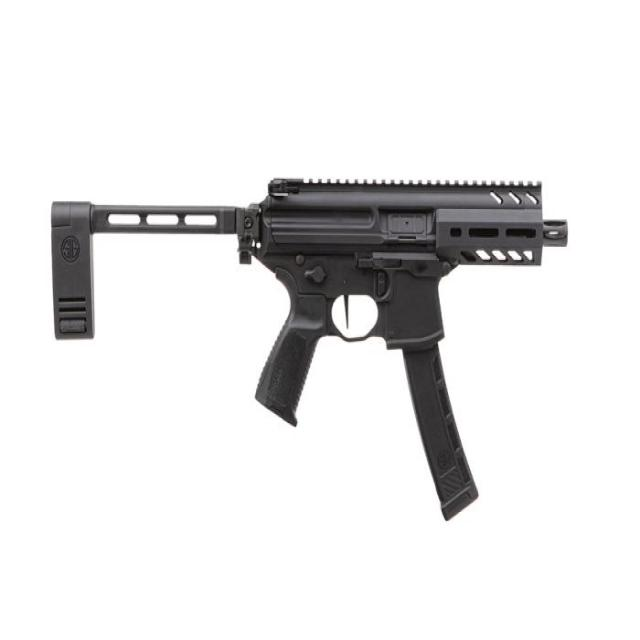SMG: (50, 178, 569, 522)
